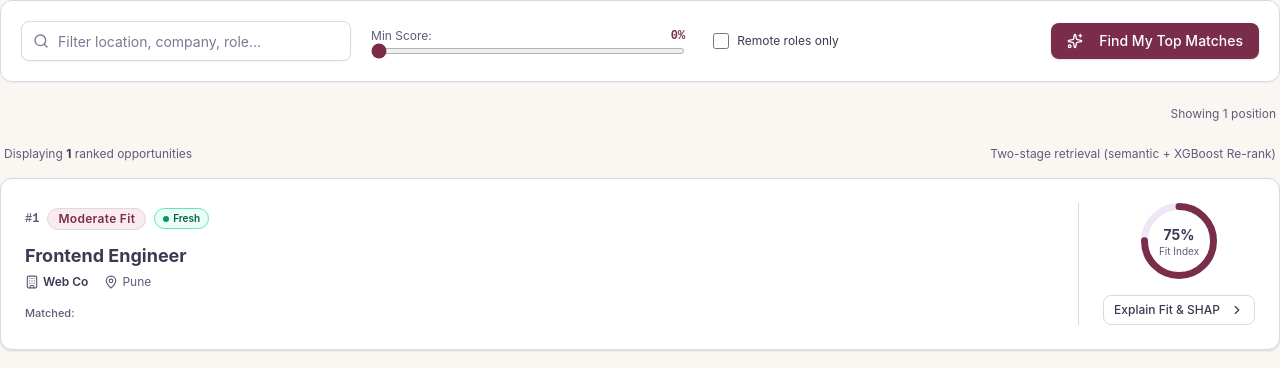
it: MatchDashboard Component Honest States › renders filter-specific empty message when user filters out all jobs
In the field with placeholder "Filter location, company, role...": [186, 41] box [21,21,351,61], type "NonExistentCity"
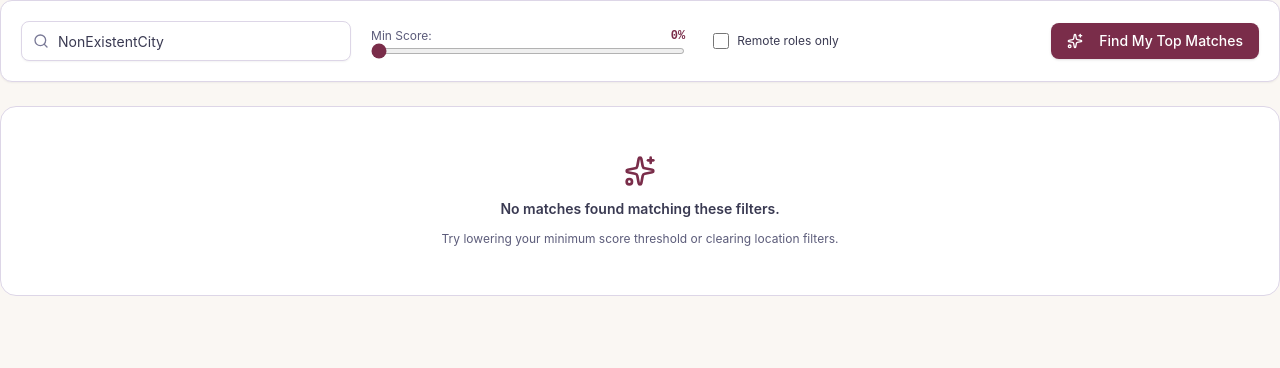
Now the text "No matches found matching these filters." is shown, box [500,200,780,217]
Now the text "Try lowering your minimum score threshold or clearing location filters" is shown, box [442,231,838,246]
